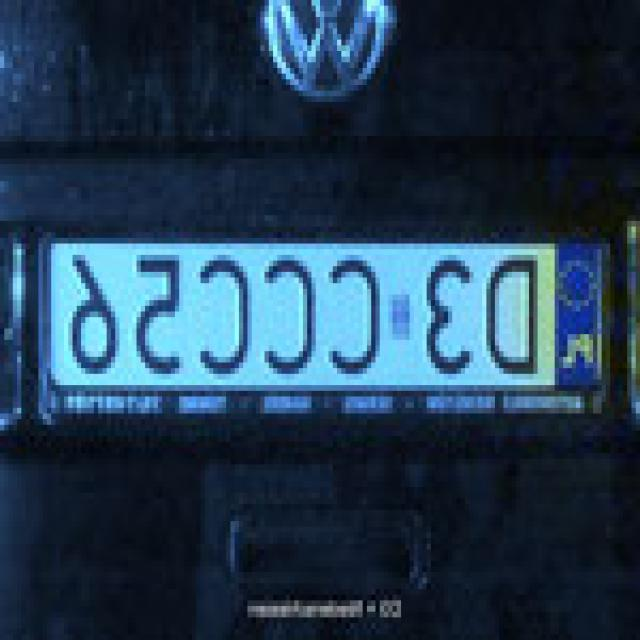pl_license_plate: (51, 232, 606, 380)
